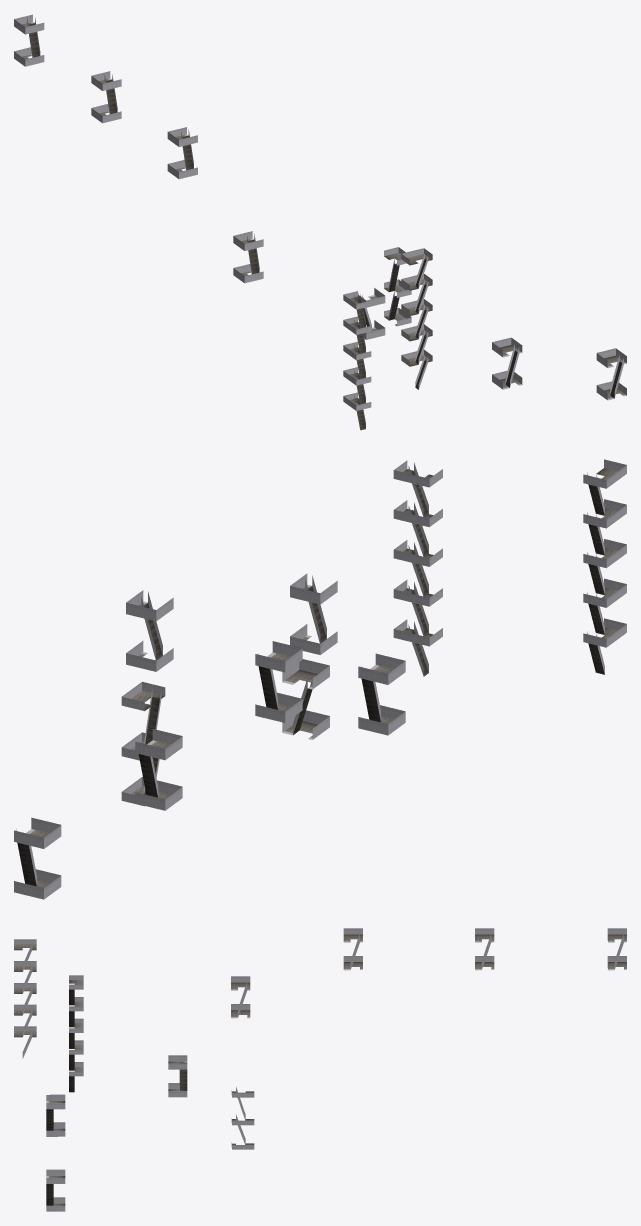
File: fescape_sfw08.obj
3 views of the same model, one above another, from view 1: azimuth 30°, elevation 25°; view 2: azimuth 150°, elevation 25°; view 3: azimuth 270°, elevation 25° (orthographic). The views are drawn at different scales.
Parts seen in each view (by area): view 1: fescape_sfw08; view 2: fescape_sfw08; view 3: fescape_sfw08.
Part boxes in pixels (x1,y1,x2,y2): fescape_sfw08: (14, 14, 626, 430); fescape_sfw08: (14, 459, 626, 899); fescape_sfw08: (14, 928, 626, 1211).
Size of the model in its own units: 51.39 by 33.28 by 110.
Materials: 1 (1 with a texture image).
